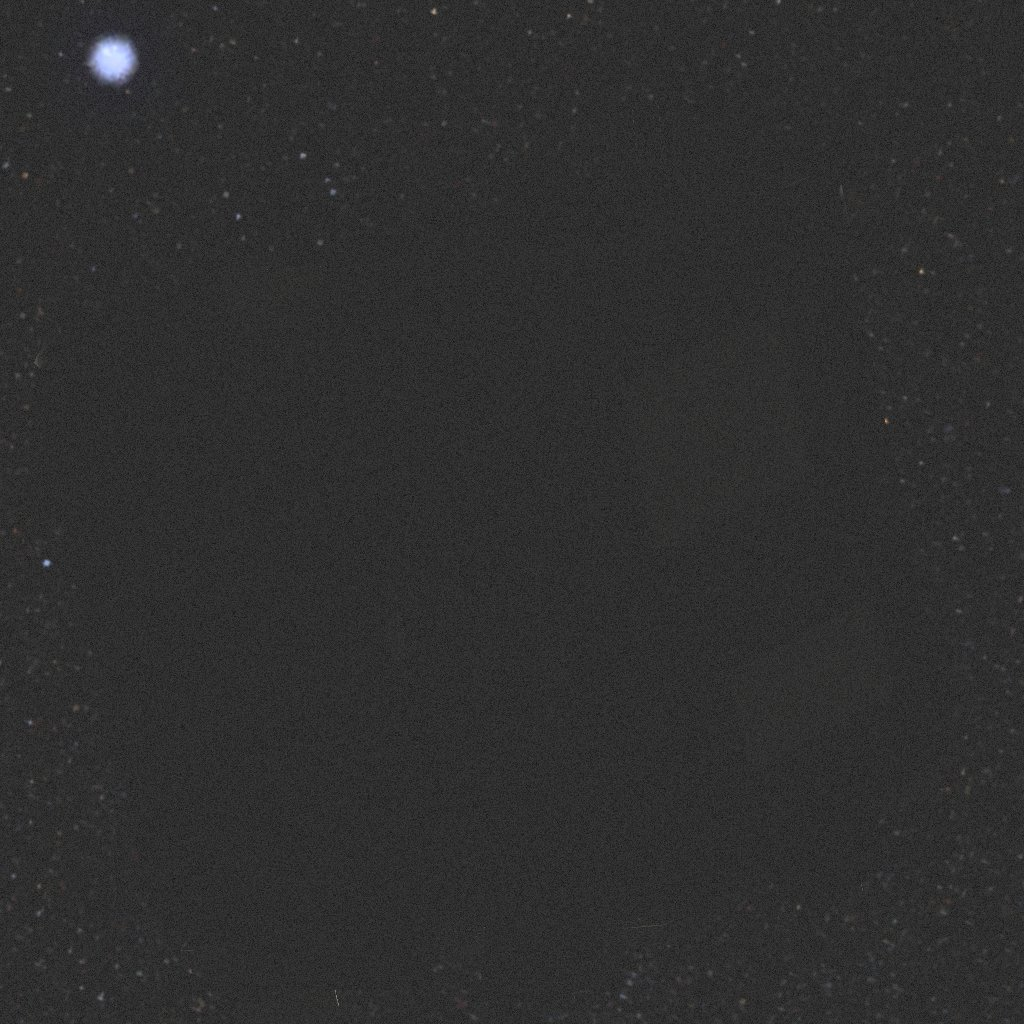proba_3_ocs: (34, 100, 956, 1024)
